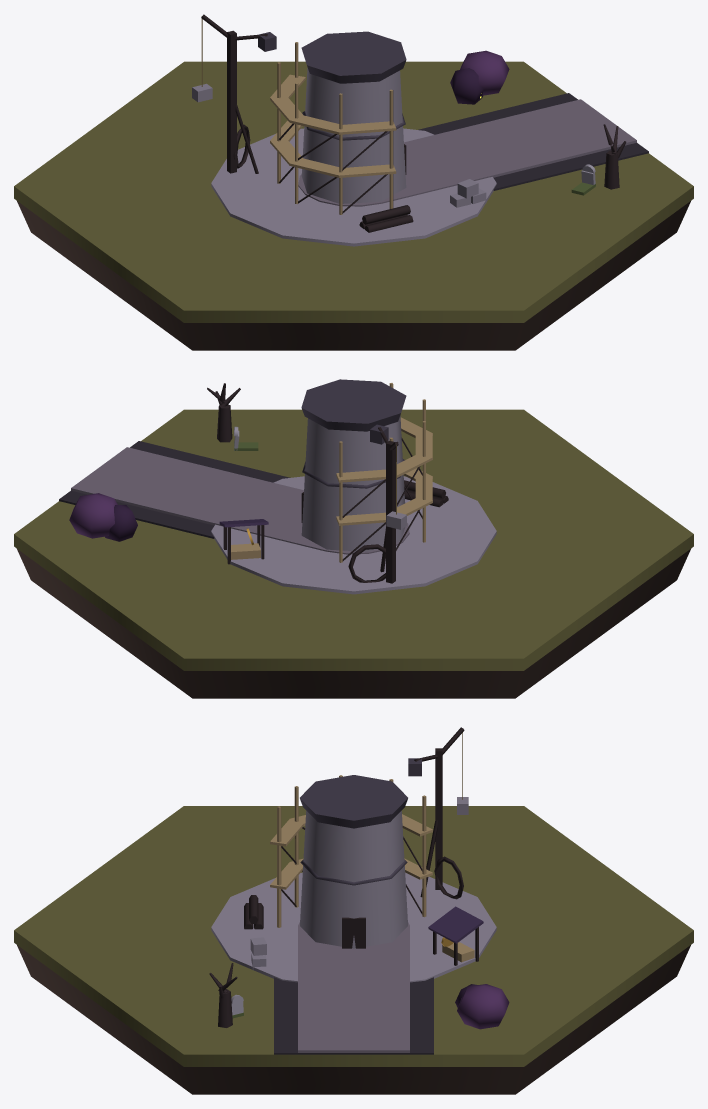
The model's file is tile_base_builder.glb.
3 renders of one model, top to bottom at view 1: azimuth 30°, elevation 25°; view 2: azimuth 150°, elevation 25°; view 3: azimuth 270°, elevation 25°, orthographic.
Parts seen in each view (by area): view 1: ground, ground_soil, road, courtyard, tower_body, tower_cap, scaffold, crane_mast, deco_bush_0_a, deco_bush_0_b, scaffold_plank_3_28.000000000000004, scaffold_plank_2_14.000000000000002 (+1 smaller); view 2: ground, ground_soil, road, courtyard, tower_body, tower_cap, deco_bush_0_a, crane_mast, scaffold, deco_bush_0_b, deco_tree_1_trunk, scaffold_plank_0_28.000000000000004; view 3: ground, ground_soil, road, tower_body, courtyard, tower_cap, deco_bush_0_a, scaffold, workshop_roof, crane_mast, tower_door.
Boxes of the visible parts, x1,y1,x2,y2 form: ground: (14, 61, 693, 322); ground_soil: (17, 201, 690, 350); road: (381, 93, 648, 203); courtyard: (211, 128, 496, 246); tower_body: (301, 68, 406, 203); tower_cap: (301, 31, 406, 83); scaffold: (277, 42, 393, 214); crane_mast: (227, 30, 236, 173); deco_bush_0_a: (460, 50, 509, 95); deco_bush_0_b: (450, 68, 483, 104); scaffold_plank_3_28.000000000000004: (336, 121, 396, 134); scaffold_plank_2_14.000000000000002: (290, 157, 347, 177); ground: (14, 409, 693, 670); ground_soil: (17, 549, 690, 698); road: (59, 441, 326, 551); courtyard: (211, 476, 496, 594); tower_body: (301, 415, 405, 551); tower_cap: (301, 379, 406, 431); deco_bush_0_a: (69, 493, 117, 538); crane_mast: (386, 441, 395, 583); scaffold: (339, 383, 425, 562); deco_bush_0_b: (105, 505, 137, 541); deco_tree_1_trunk: (217, 404, 232, 442); scaffold_plank_0_28.000000000000004: (336, 469, 385, 482); ground: (14, 806, 693, 1066); ground_soil: (17, 945, 690, 1094); road: (274, 926, 433, 1054); tower_body: (300, 811, 407, 948); courtyard: (211, 872, 496, 982); tower_cap: (300, 775, 407, 828); deco_bush_0_a: (457, 984, 509, 1029); scaffold: (277, 775, 426, 927); workshop_roof: (428, 906, 483, 943); crane_mast: (435, 748, 442, 889); tower_door: (342, 917, 365, 948).
Bounding box in the file's own units: 1.73 × 0.6545 × 2.
